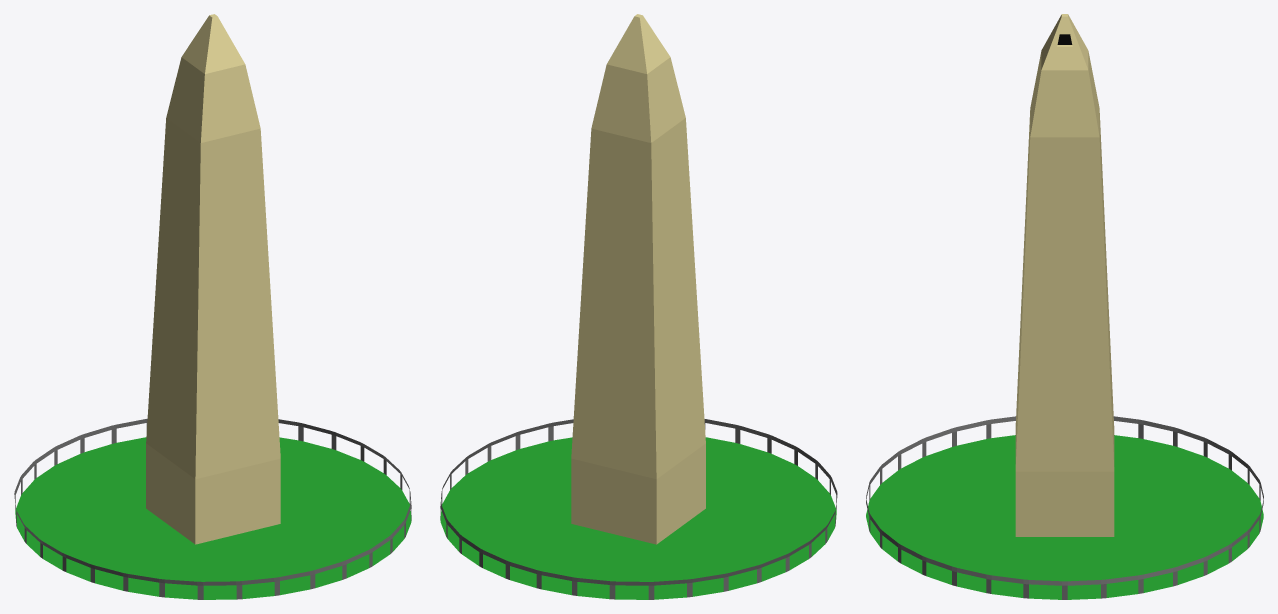
The model's file is monas.glb.
The picture shows the model from 3 angles, left to right: view 1: azimuth 30°, elevation 25°; view 2: azimuth 150°, elevation 25°; view 3: azimuth 270°, elevation 25°; orthographic projection.
Parts seen in each view (by area): view 1: Monumentum; view 2: Monumentum; view 3: Monumentum.
Part boxes in pixels (bbox=[...]): Monumentum: bbox=[14, 14, 411, 599]; Monumentum: bbox=[440, 14, 837, 599]; Monumentum: bbox=[866, 14, 1263, 599].
Size of the model in its own units: 216 by 300 by 216.
